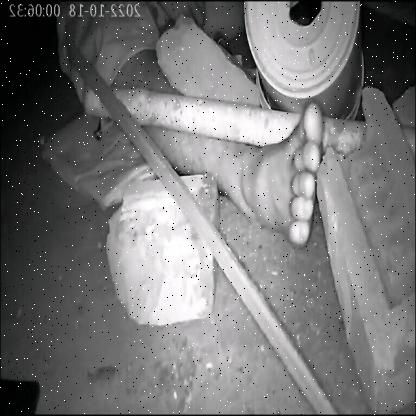leg: (135, 71, 349, 270)
